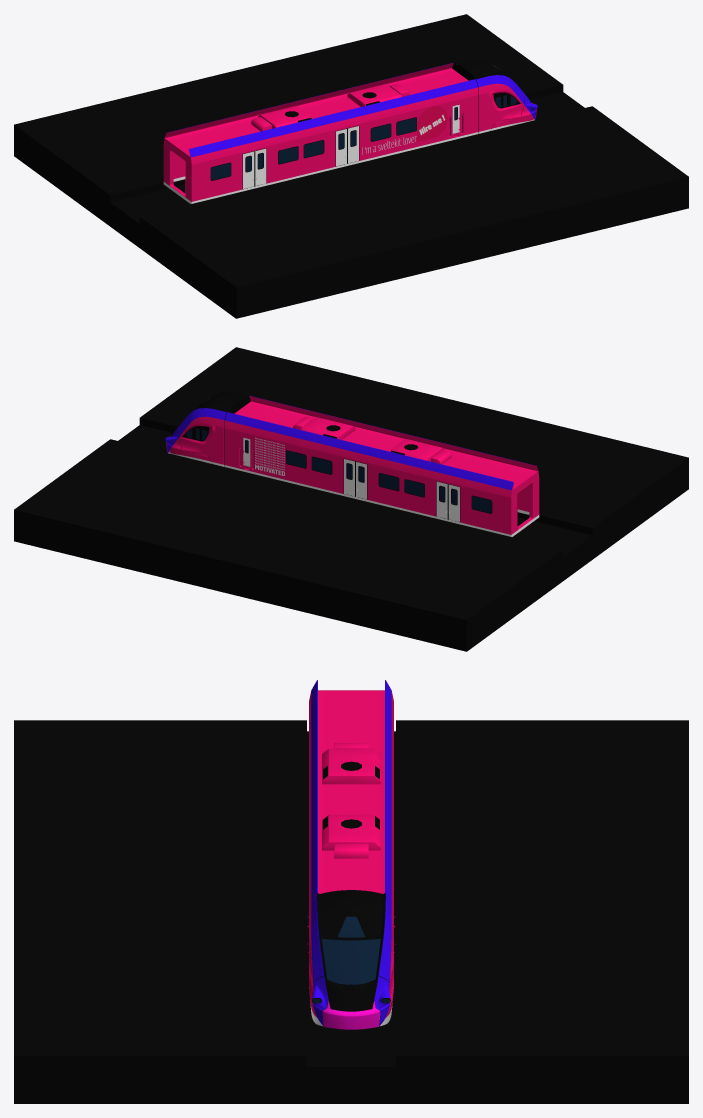
Rendered from train.glb.
3 renders of one model, top to bottom at view 1: azimuth 30°, elevation 25°; view 2: azimuth 150°, elevation 25°; view 3: azimuth 270°, elevation 25°, orthographic. The views are drawn at different scales.
Visible parts, largest first — view 1: Cube.001, Cube.002, Ivolga_train, Cube, Plan; view 2: Cube.002, Cube.001, Ivolga_train, Cube, Plan.002; view 3: Cube.002, Cube.001, Ivolga_train, Cube.
Part boxes in pixels (x1,y1,x2,y2): Cube.001: (139, 106, 688, 318); Cube.002: (14, 14, 563, 226); Ivolga_train: (163, 58, 537, 203); Cube: (110, 92, 584, 247); Plan: (417, 106, 447, 141); Cube.002: (14, 439, 563, 651); Cube.001: (139, 347, 688, 559); Ivolga_train: (165, 391, 539, 536); Cube: (118, 425, 592, 580); Plan.002: (255, 437, 284, 475); Cube.002: (396, 720, 688, 1103); Cube.001: (14, 720, 306, 1103); Ivolga_train: (307, 680, 395, 1029); Cube: (306, 731, 396, 1103).
Bounding box in the file's own units: 29.98 × 5.43 × 25.48.
12 materials, 3 textured.
